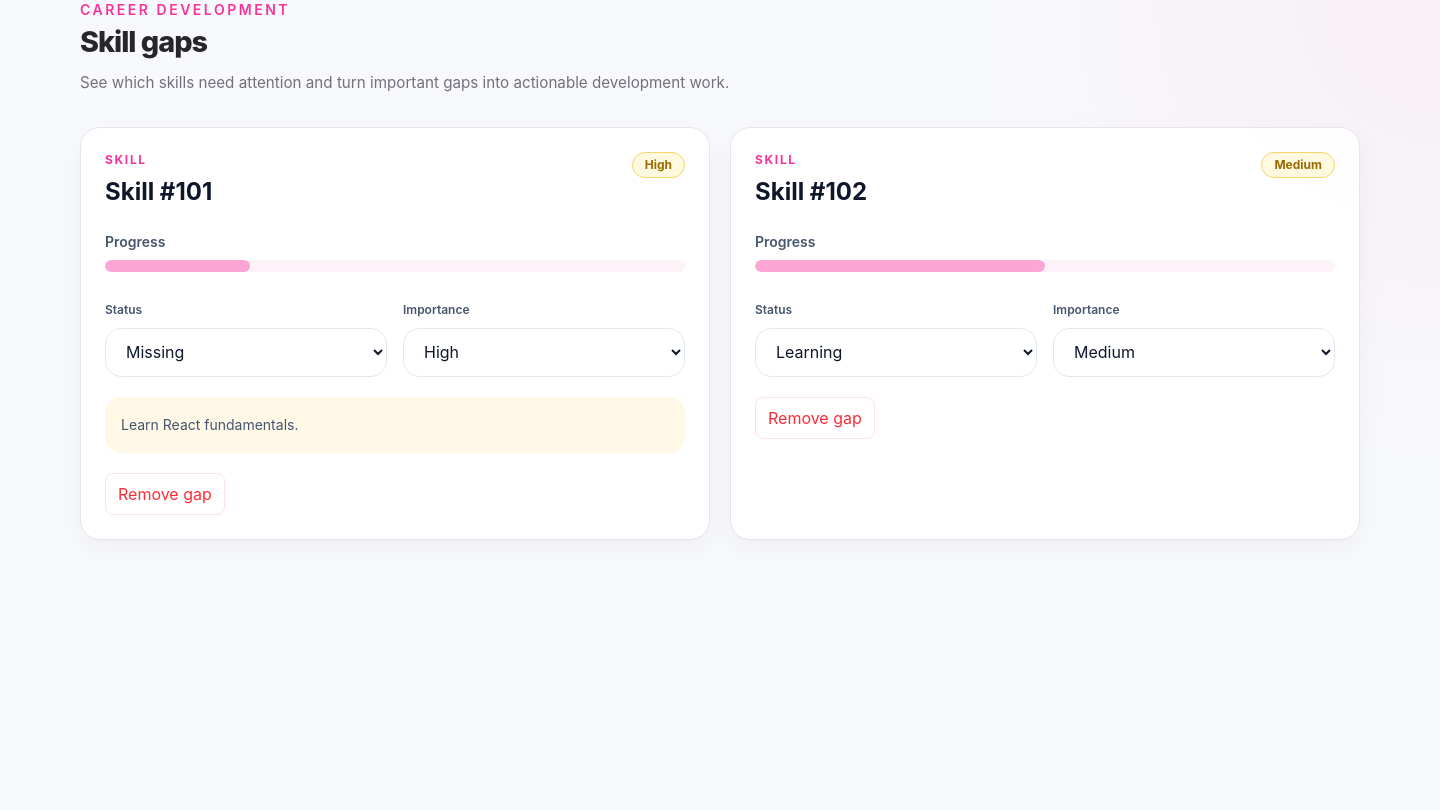
SkillGaps › does not delete when cancellation is selected
This screenshot has width=1440, height=810.
Expected: the heading "Skill #101" is shown, x1=105 y1=176 x2=212 y2=208
What coordinates should you click on to do the following:
click the button "Remove gap" below "Learn React fundamentals."
I would click on:
 (165, 494)
Its box is x1=105 y1=473 x2=225 y2=515.
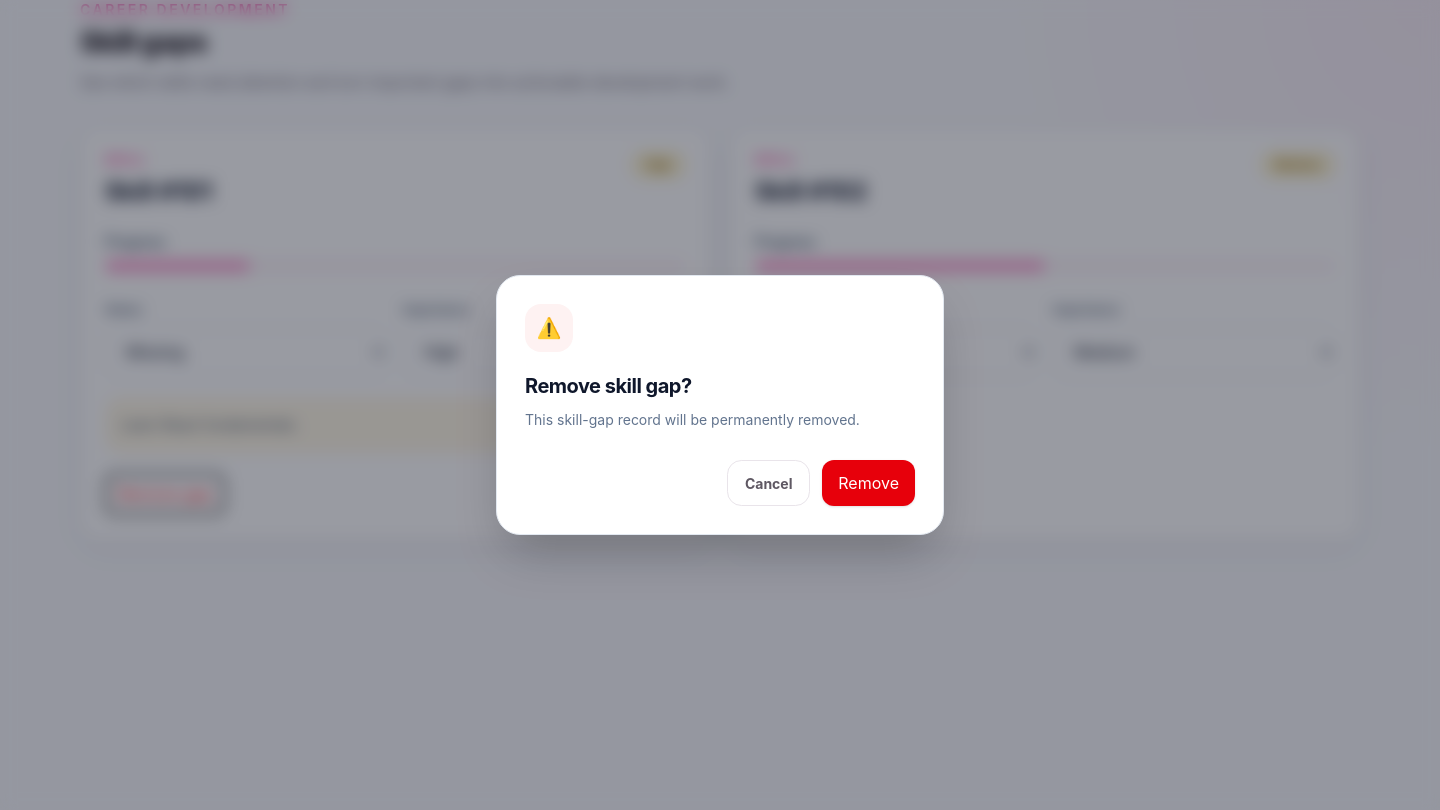
What coordinates should you click on to do the following:
click the button "Cancel"
I would click on:
 (769, 483)
Its box is x1=727 y1=460 x2=810 y2=506.
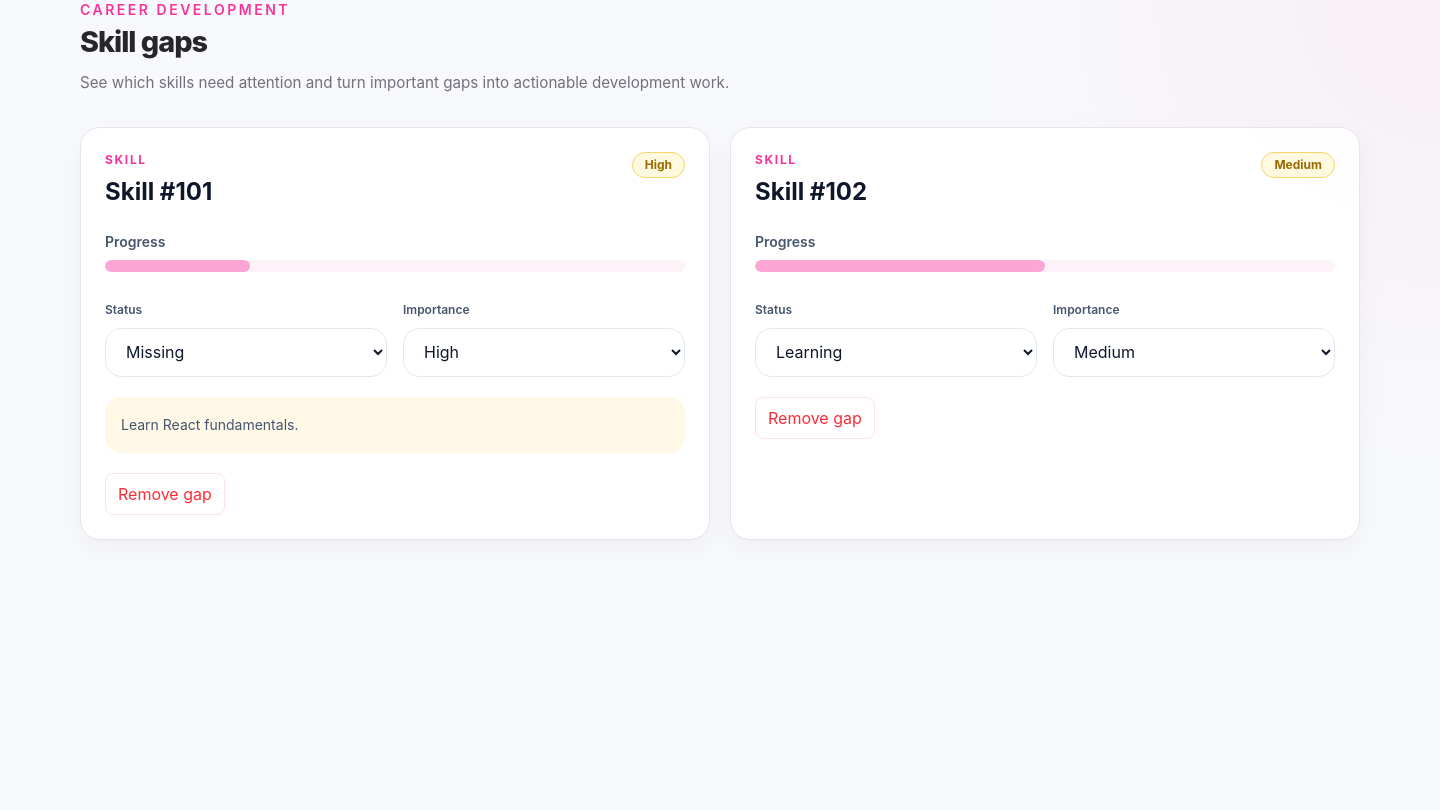
Expected: the dialog is gone
